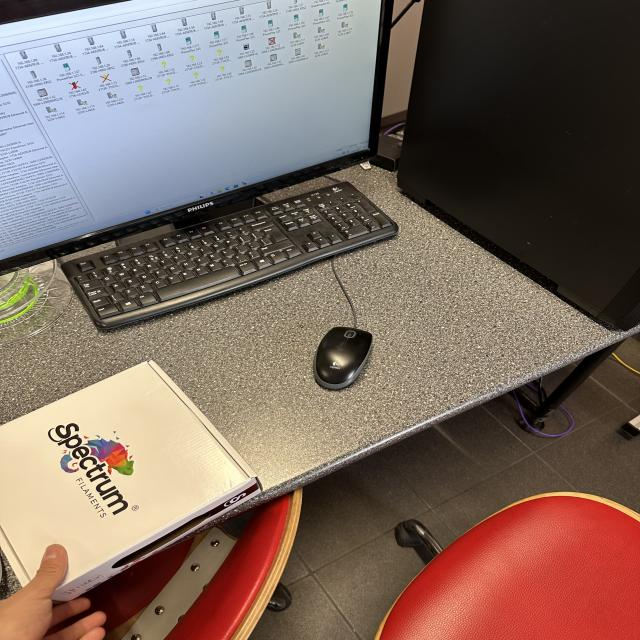mysz: (314, 319, 371, 393)
